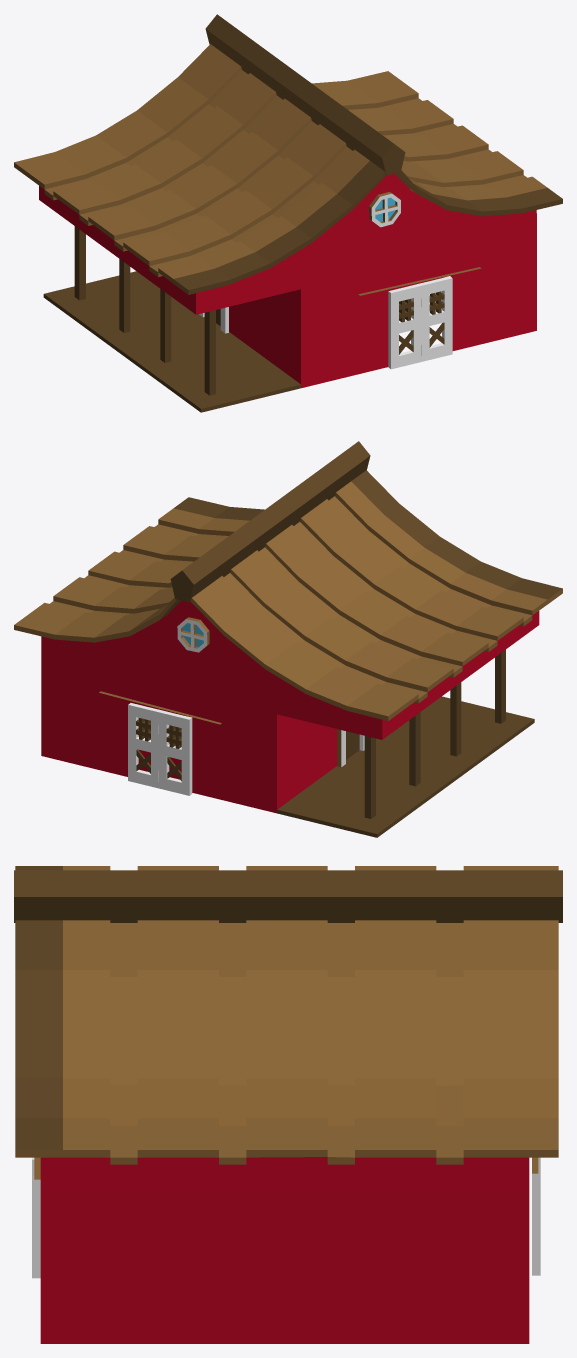
The model's file is barn.obj.
The picture shows the model from 3 angles, top to bottom: view 1: azimuth 30°, elevation 25°; view 2: azimuth 150°, elevation 25°; view 3: azimuth 270°, elevation 25°; orthographic projection. The views are drawn at different scales.
Visible parts, largest first — view 1: farm_house.002; view 2: farm_house.002; view 3: farm_house.002.
Boxes of the visible parts, <box> form: farm_house.002: <box>14,14,562,412</box>; farm_house.002: <box>14,441,562,837</box>; farm_house.002: <box>14,866,562,1343</box>.
Size of the model in its own units: 154 by 90.63 by 126.
Materials: 1 (1 with a texture image).
